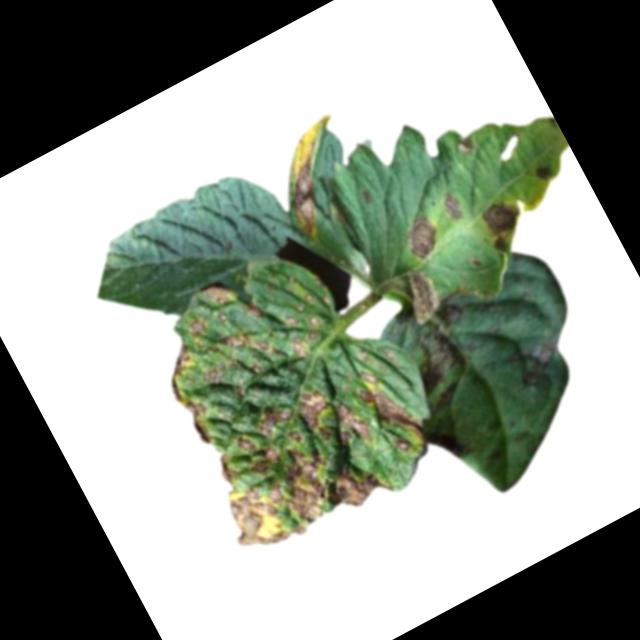Early_blight: (123, 222, 456, 571), (257, 110, 377, 236), (398, 313, 483, 396), (506, 324, 580, 389), (472, 191, 534, 255), (393, 263, 451, 329), (399, 209, 450, 262), (423, 417, 466, 465), (435, 187, 467, 223), (529, 155, 560, 186), (451, 131, 478, 158)
